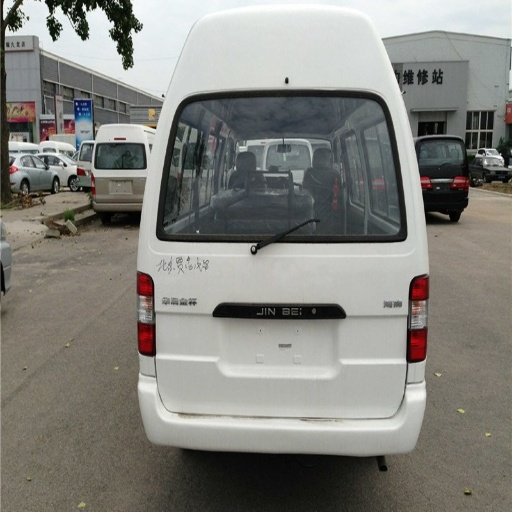back_bumper: (139, 356, 428, 453)
